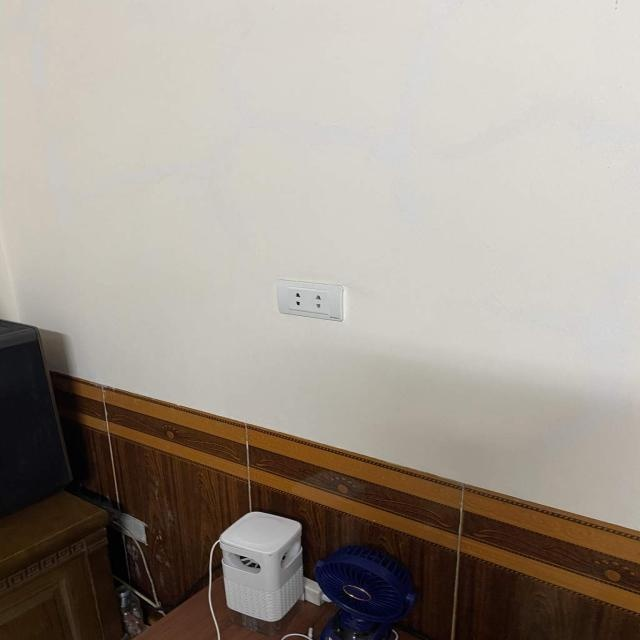outlet: (276, 279, 344, 321)
